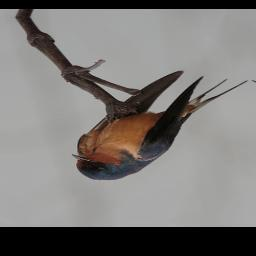Swallow: (62, 68, 256, 183)
